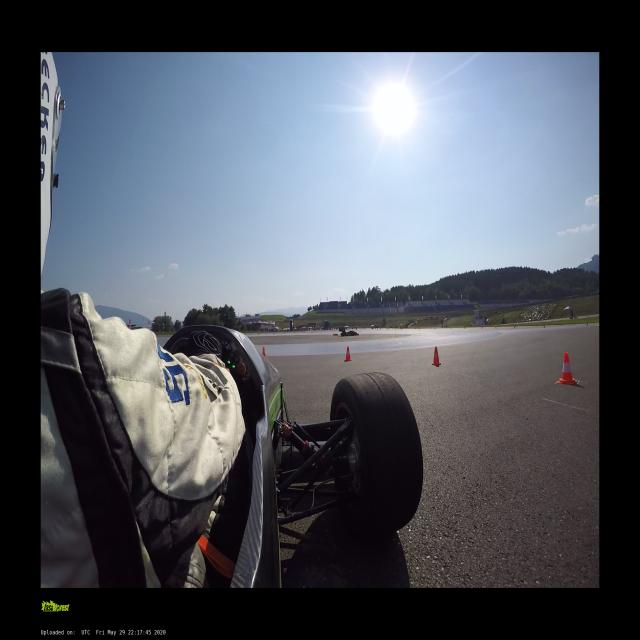orange_cone: (558, 352, 576, 383), (432, 347, 441, 365), (344, 346, 352, 361), (263, 347, 266, 358)
